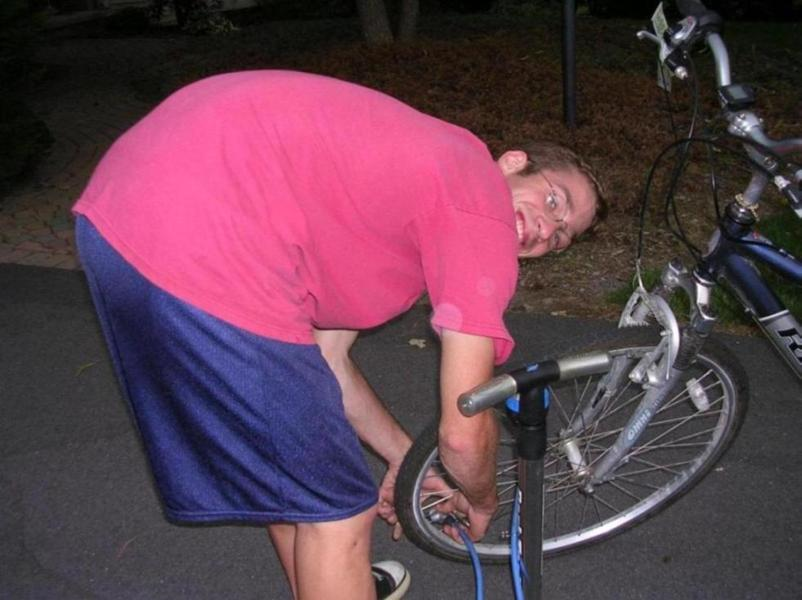person: (71, 69, 605, 599)
